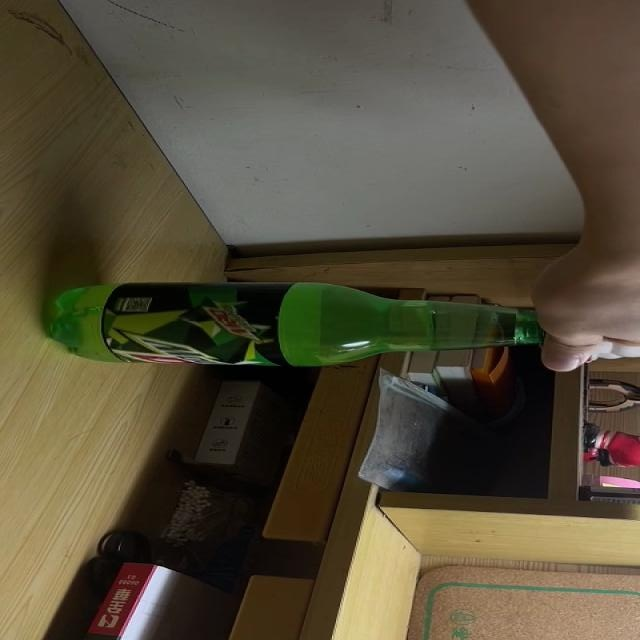Mountain-Dew: (48, 280, 582, 365)
